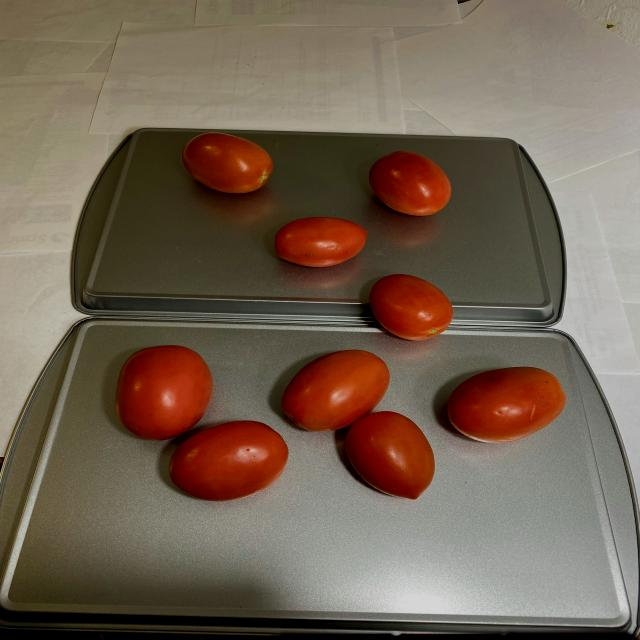tomato: (109, 271, 570, 506), (182, 132, 454, 266)
